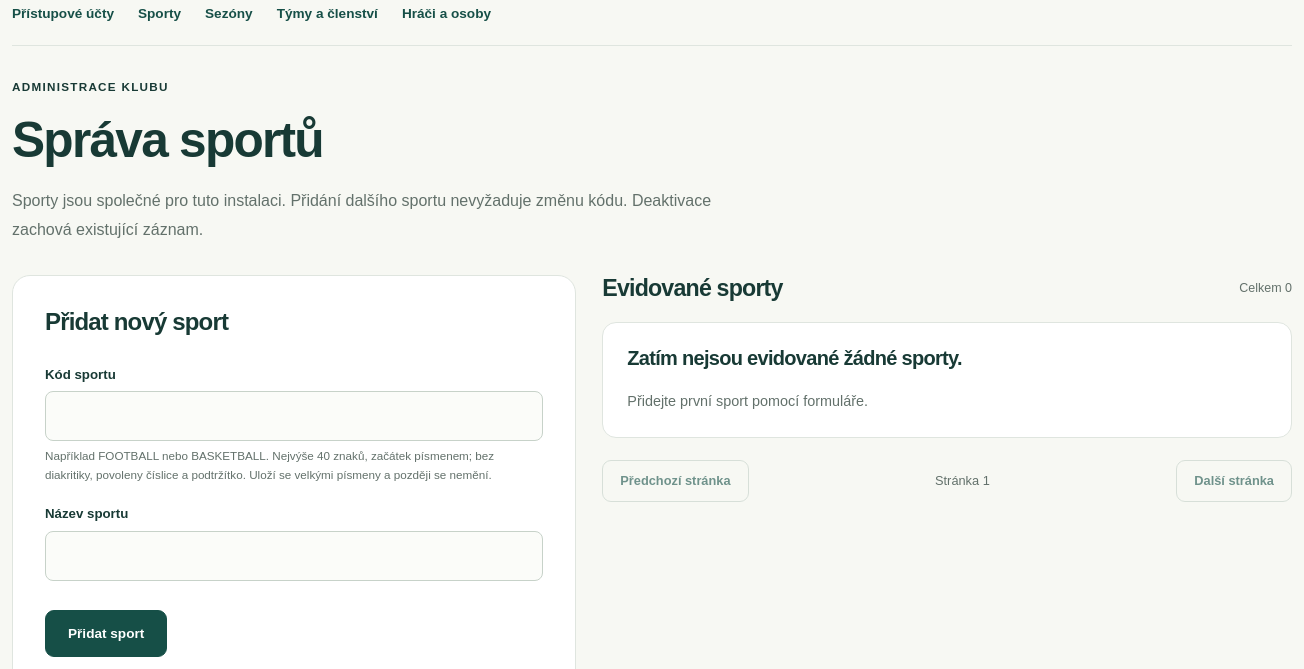
Test: P1 sports administration › duplicita vrátí opravitelný konflikt a zachová vyplněný kód
Type "FOOTBALL" into the field labelled "Kód sportu" at (294, 416), box [45,391,543,441]
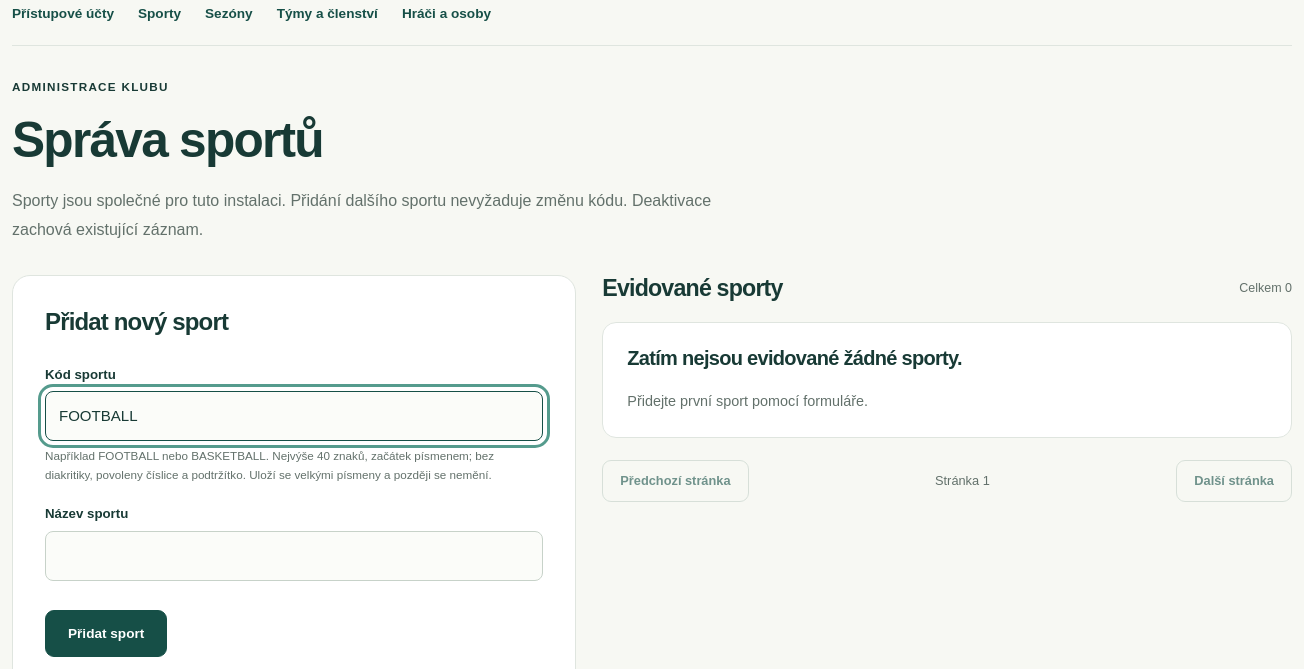
Type "Fotbal" into the field labelled "Název sportu" at (294, 556), box [45,531,543,581]
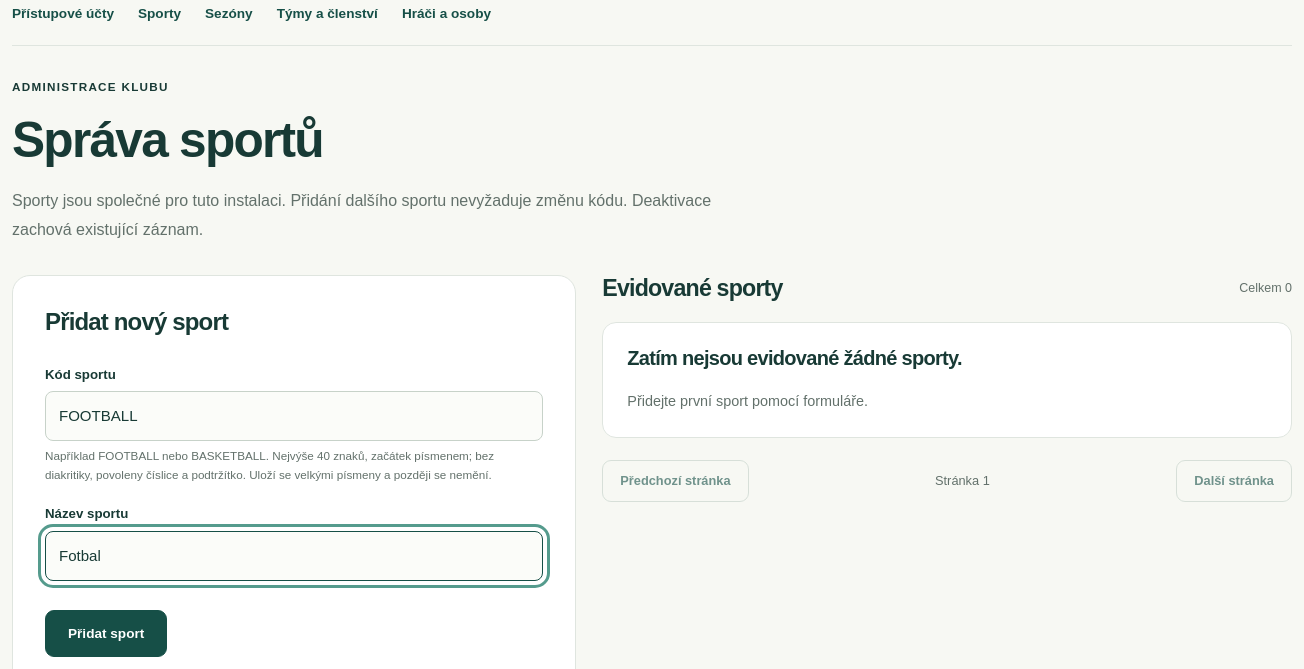
Click the button "Přidat sport" at (106, 633), box [45,610,167,657]
(page scrolled)
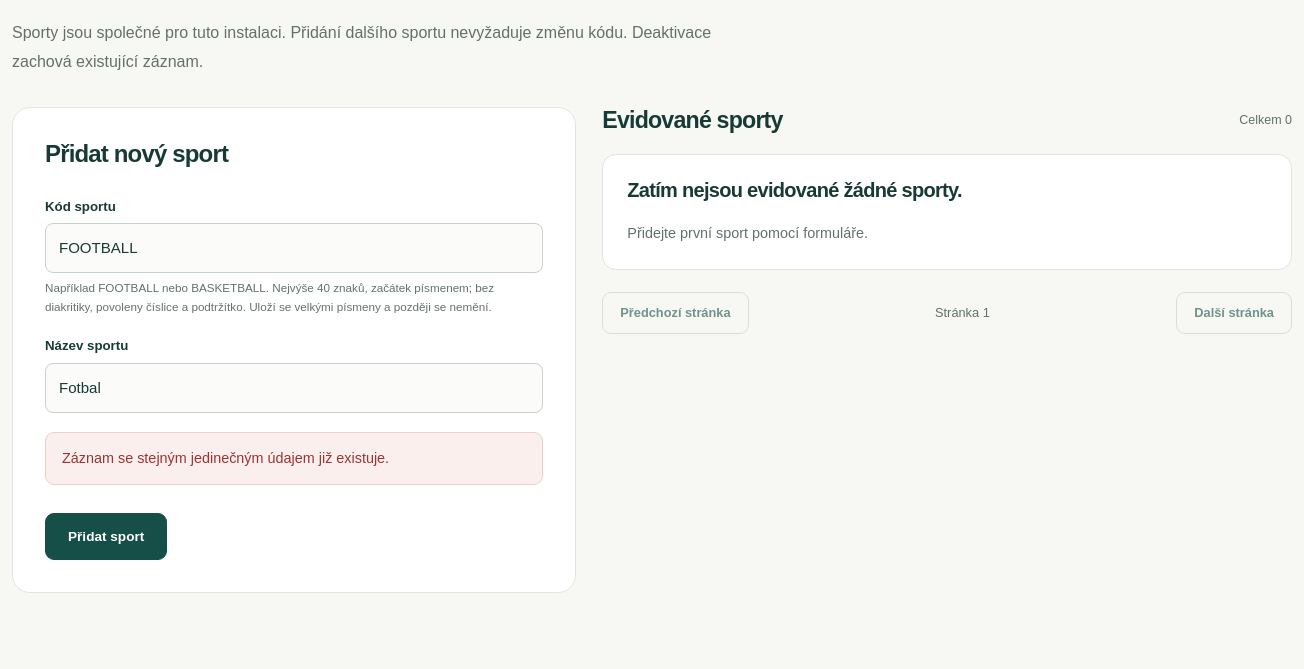
Check: the button "Přidat sport" is enabled, box [45,513,167,560]
Check: the message reads "Záznam se stejným jedinečným údajem již existuje.", box [62,450,389,466]
